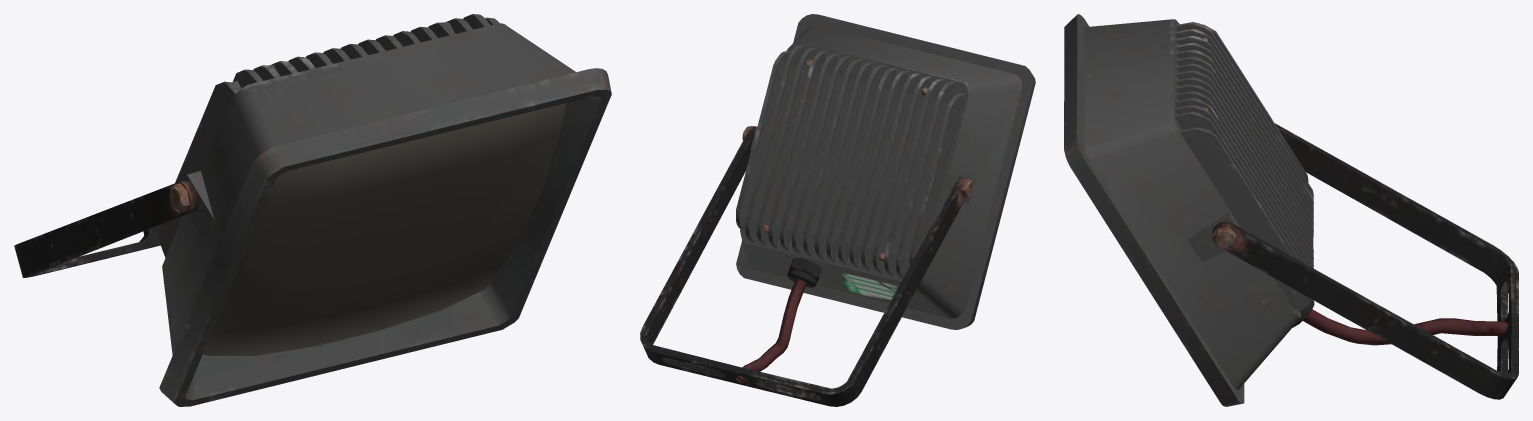
File: spotlight.off.glb
The picture shows the model from 3 angles, left to right: view 1: azimuth 30°, elevation 25°; view 2: azimuth 150°, elevation 25°; view 3: azimuth 270°, elevation 25°; orthographic projection. The views are drawn at different scales.
Parts seen in each view (by area): view 1: spotlight_LOD0; view 2: spotlight_LOD0; view 3: spotlight_LOD0.
Part boxes in pixels (x1,y1,x2,y2): spotlight_LOD0: (14, 14, 611, 406); spotlight_LOD0: (640, 14, 1035, 406); spotlight_LOD0: (1064, 14, 1518, 406).
Bounding box in the file's own units: 0.3927 × 0.3613 × 0.5384.
1 material, 1 textured.
